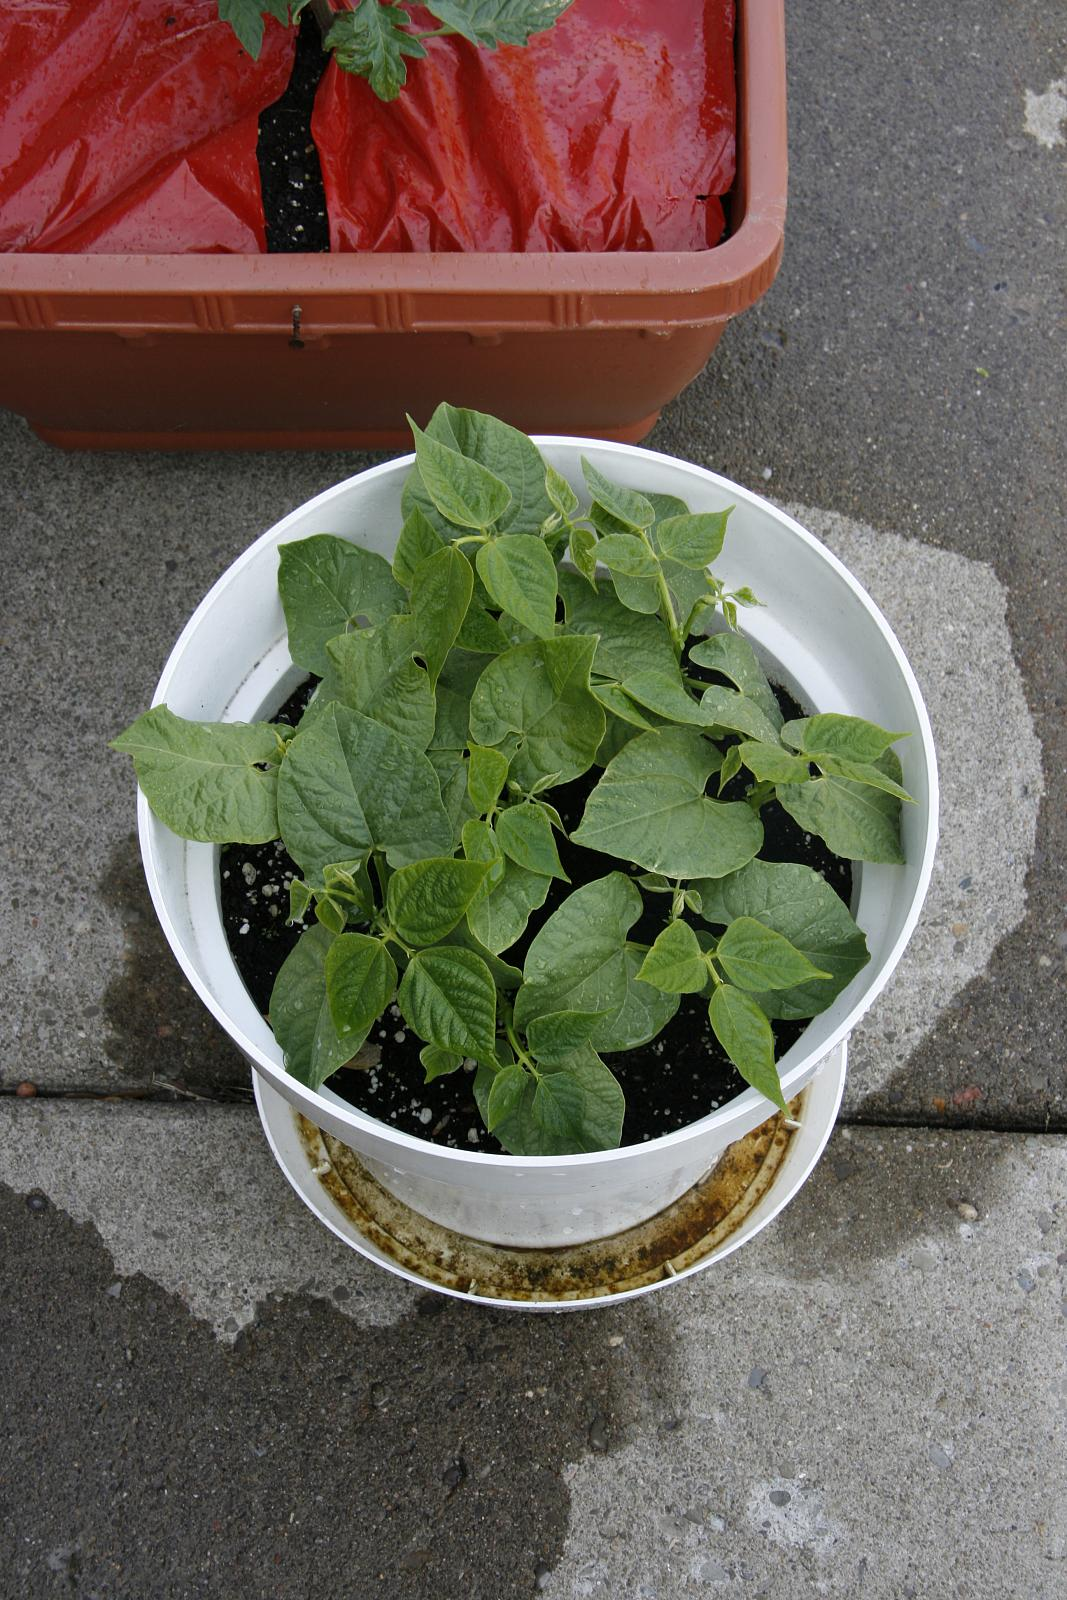potted plant: (143, 396, 938, 1348)
